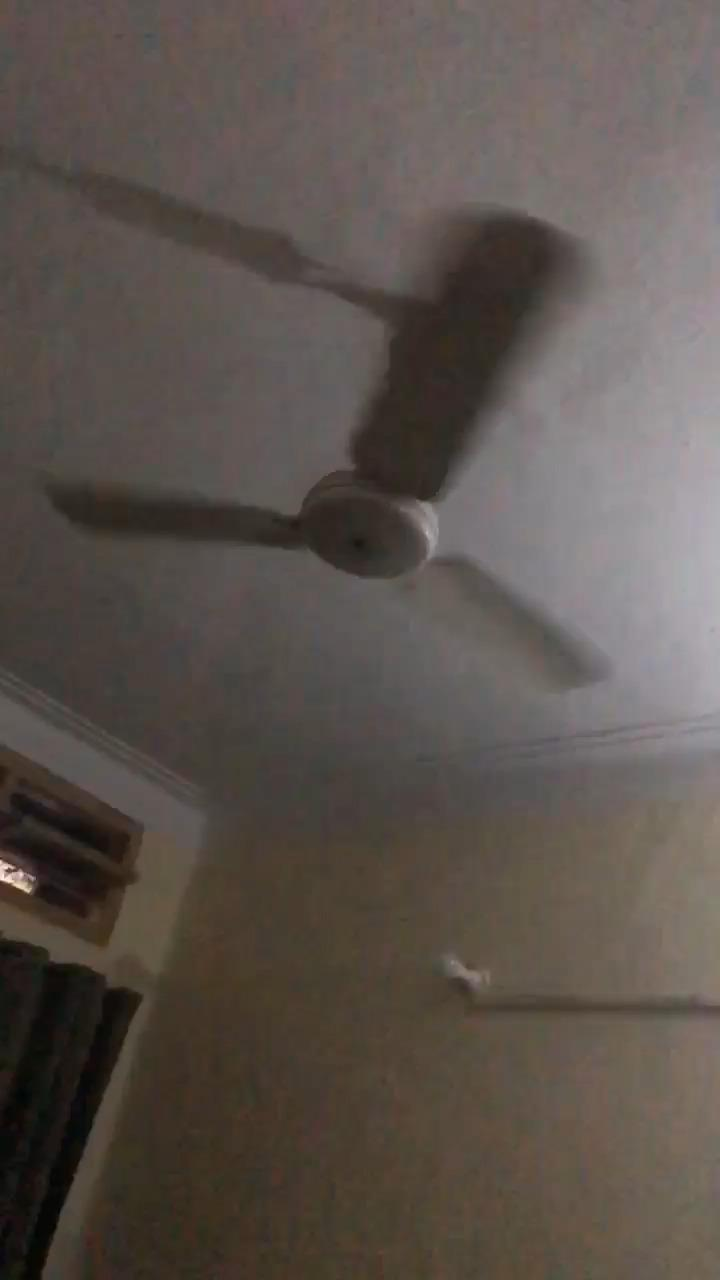fan: (11, 148, 617, 696)
